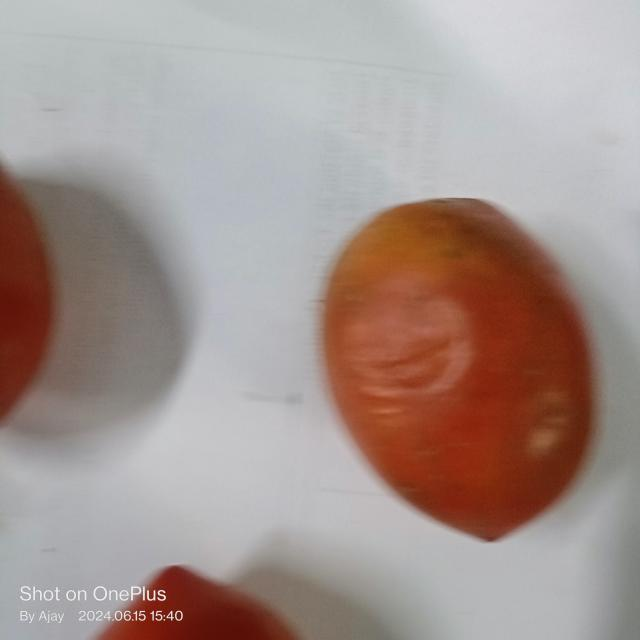Botrytis: (340, 288, 468, 398)
